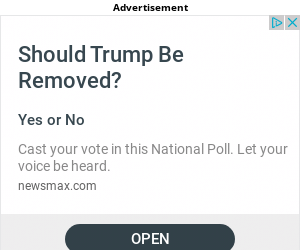fake_button: (54, 216, 244, 250), (258, 0, 300, 40)
